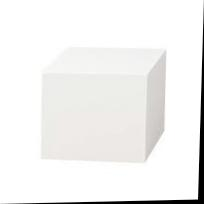cube: (37, 47, 168, 168)
